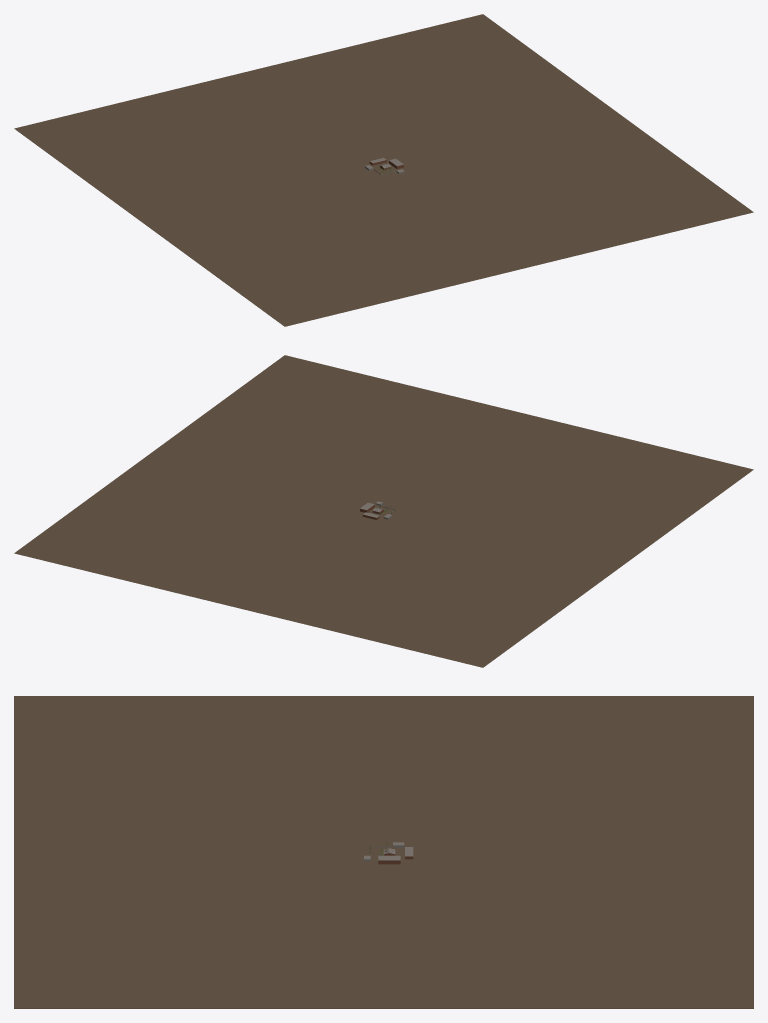
File: factory.glb
3 renders of one model, top to bottom at view 1: azimuth 30°, elevation 25°; view 2: azimuth 150°, elevation 25°; view 3: azimuth 270°, elevation 25°, orthographic. The views are drawn at different scales.
Visible parts, largest first — view 1: ground, ground_003, ground_001, ground_002; view 2: ground, ground_003, ground_001, ground_002; view 3: ground, ground_003, ground_001, ground_002.
Boxes of the visible parts, x1,y1,x2,y2 form: ground: [156, 117, 753, 326]; ground_003: [14, 14, 606, 218]; ground_001: [138, 164, 379, 231]; ground_002: [391, 105, 623, 170]; ground: [156, 355, 753, 564]; ground_003: [14, 462, 606, 667]; ground_001: [383, 509, 624, 576]; ground_002: [138, 450, 370, 515]; ground: [14, 696, 367, 1008]; ground_003: [415, 696, 753, 1008]; ground_001: [367, 696, 415, 845]; ground_002: [367, 865, 415, 1008].
Size of the model in its own units: 2000 by 13.05 by 2000.
